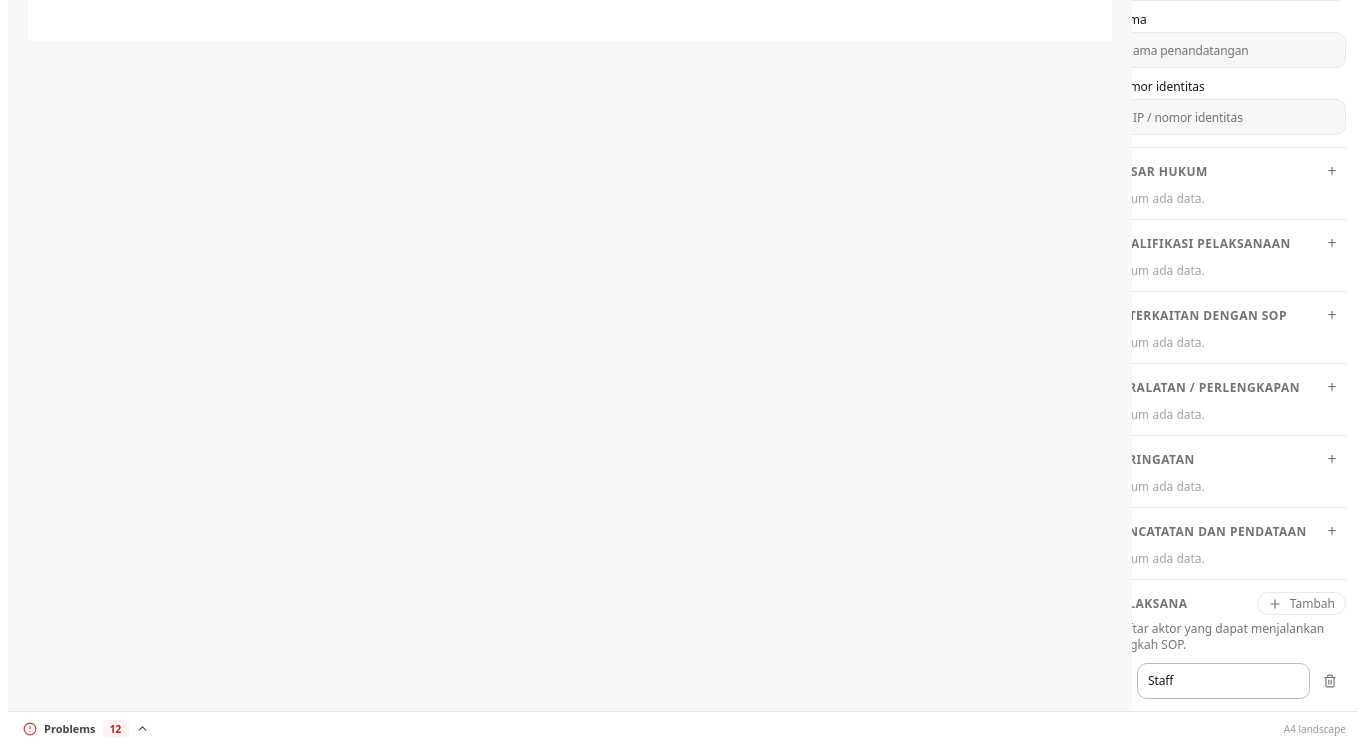
SopUnifiedWorkspace › shows real readiness issues in the persistent Problems footer
The width and height of the screenshot is (1366, 748).
(page scrolled)
Click the button "Problems 12". click: click(86, 729)
box: top-left (20, 715), bottom-right (152, 742)
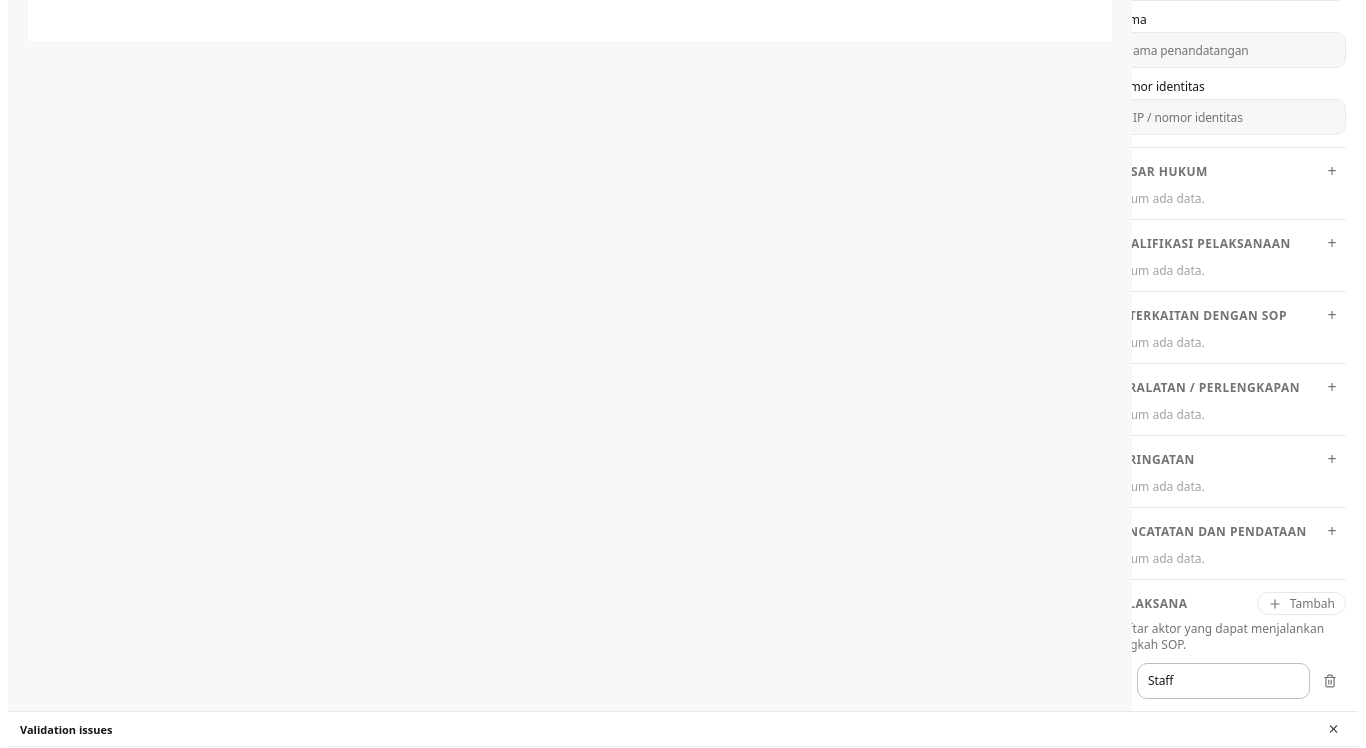
Click the button named "Close Problems". click: click(1334, 729)
box: top-left (1321, 717), bottom-right (1346, 742)
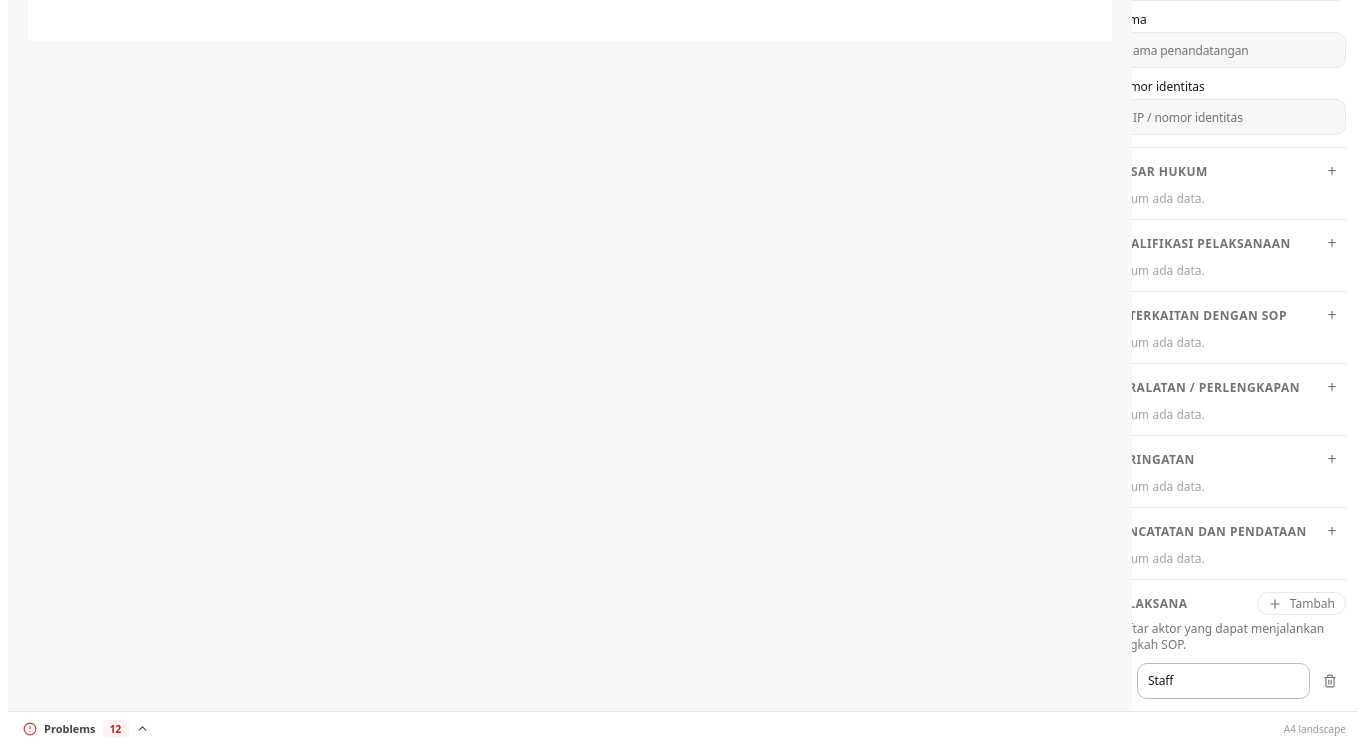
Expected: the element showing "Problems 12 A4 landscape" is shown, top-left (8, 711), bottom-right (1358, 745)
Now the button "Problems 12" is collapsed, box top-left (20, 715), bottom-right (152, 742)
